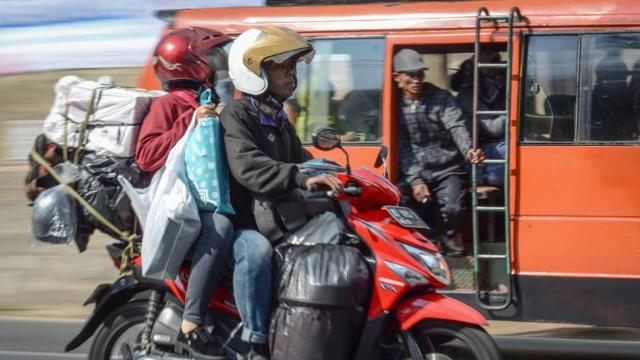helm: (229, 23, 319, 102), (152, 26, 236, 94)
motor: (64, 127, 502, 360)
